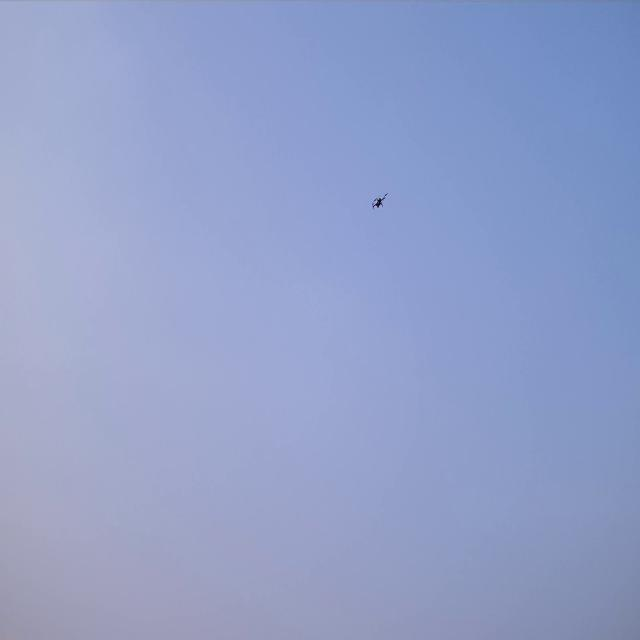UAV: (371, 191, 388, 211)
